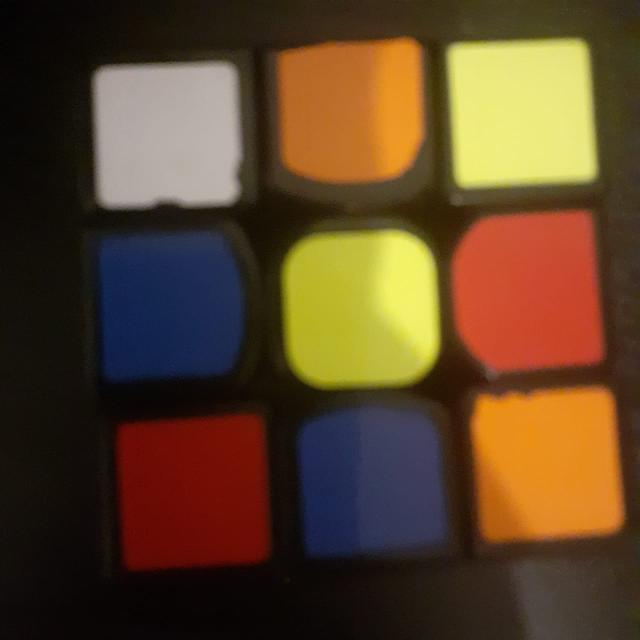Blue: (290, 406, 450, 554), (88, 235, 248, 373)
Orange: (464, 392, 626, 542), (269, 51, 421, 187)
Red: (104, 402, 276, 574), (454, 218, 610, 374)
White: (82, 59, 238, 205)
Yellow: (277, 231, 443, 385), (442, 42, 592, 186)
